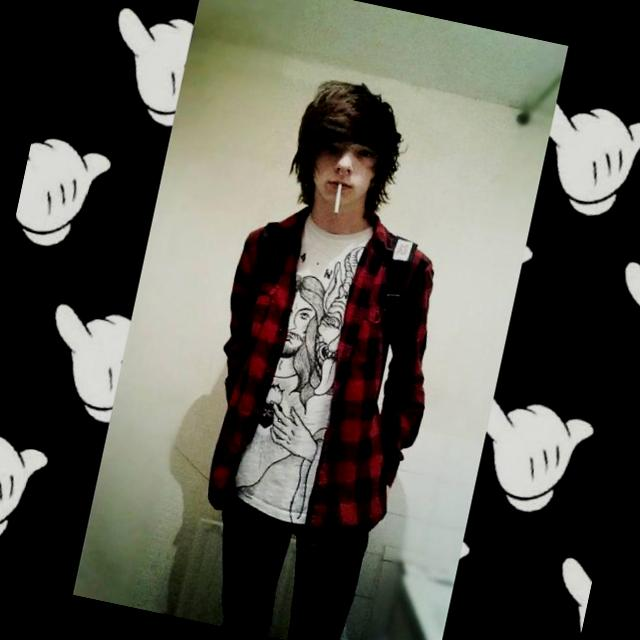smoke: (322, 176, 351, 223)
